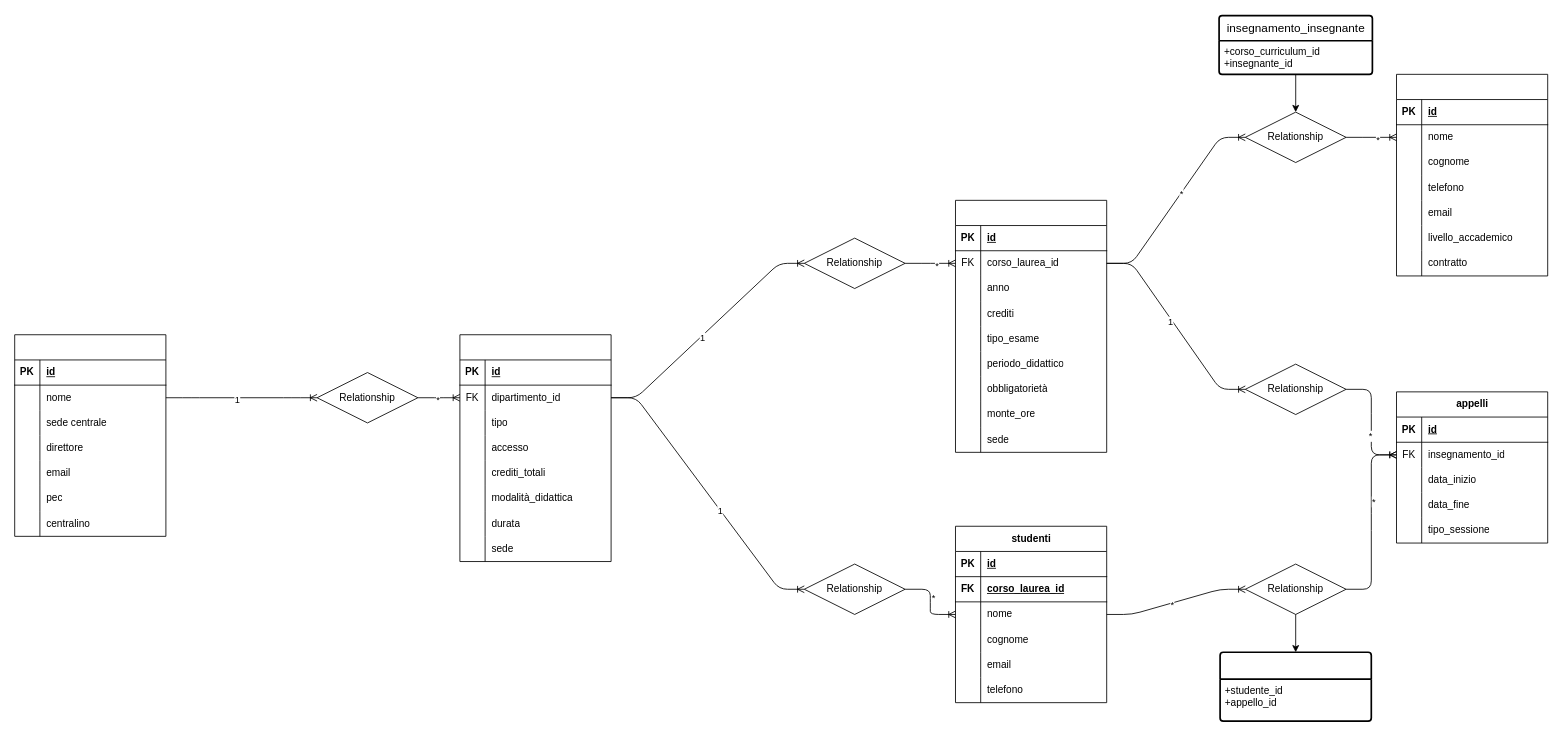
This 1562x736 diagram has some shape labels left out. Each missing label, with the box of its shape:
corsi_laurea: (459, 334, 611, 562)
dipartimenti: (14, 334, 166, 536)
insegnamenti: (955, 200, 1107, 452)
insegnanti: (1396, 74, 1548, 276)
studente_appello_esame: (1219, 651, 1372, 722)
